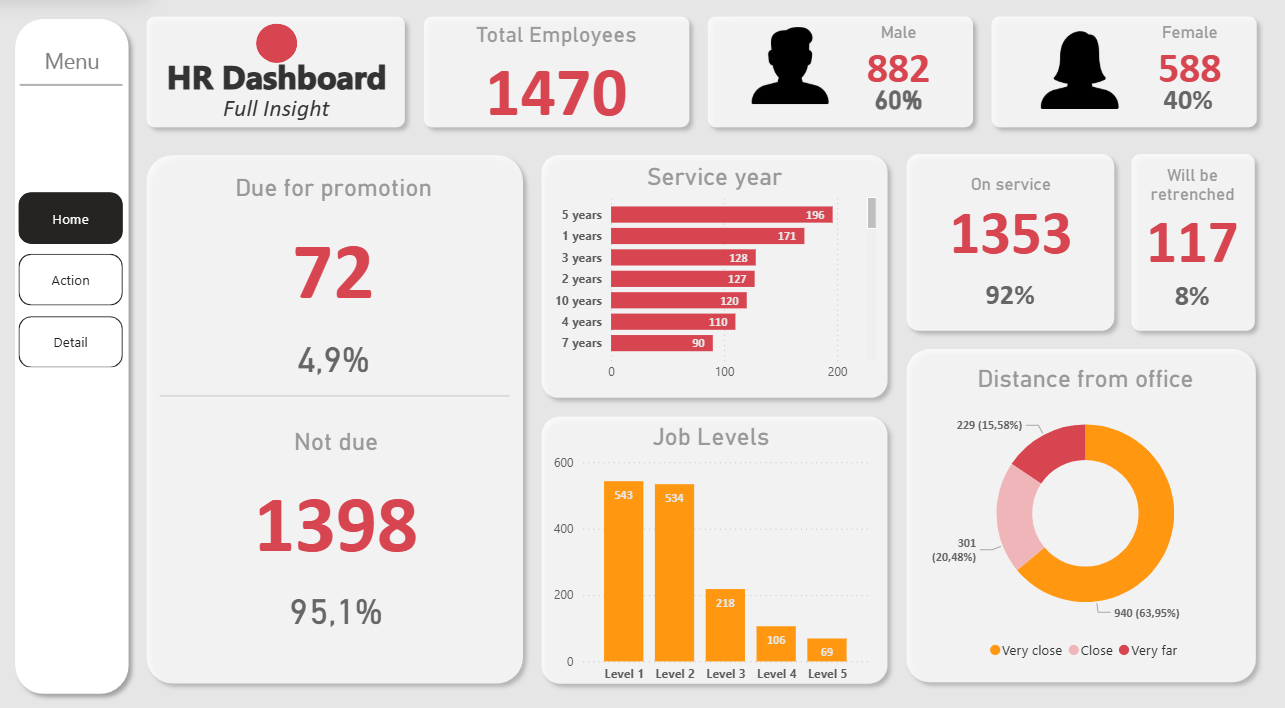

This screenshot's page, from the dashboard's own definition file:
{"tool":"powerbi","page":{"name":"Home","canvas":[1280,720],"ordinal":0},"visuals":[{"type":"shape","box":[9.8,13.5,130.1,684.7],"z":0},{"type":"shape","box":[693.5,11.7,280.1,127.4],"z":1000},{"type":"shape","box":[973.6,11.7,280.1,127.4],"z":2000},{"type":"shape","box":[140.1,11.7,273.3,127.4],"z":3000},{"type":"shape","box":[413.4,11.7,280.1,127.4],"z":4000},{"type":"shape","box":[140.1,147.8,390,539.8],"z":5000},{"type":"shape","box":[530.1,147.8,359.9,257.8],"z":6000},{"type":"shape","box":[530.1,405.6,359.9,282.1],"z":7000},{"type":"shape","box":[889.6,147.2,223.3,192.6],"z":8000},{"type":"shape","box":[1112.9,147.2,139.9,192.6],"z":9000},{"type":"shape","box":[889.6,339.9,363.2,347.2],"z":10000},{"type":"textbox","box":[148.8,52.5,255.8,59.3],"z":11000},{"type":"textbox","box":[193.5,90.6,166,39.8],"z":12000},{"type":"shape","box":[256.8,27.2,40.9,38.9],"z":13000},{"type":"card","title":"Total Employees","fields":{"Values":["All Measures.Total Emp"]},"box":[444.5,26.3,217.9,98.2],"z":14000},{"type":"card","title":"Male","fields":{"Values":["All Measures.Male"]},"box":[837.4,26.3,108.9,65.2],"z":15000},{"type":"card","title":"Male","fields":{"Values":["All Measures.% Male"]},"box":[856.9,84.6,69.1,33.1],"z":16000},{"type":"card","title":"Female","fields":{"Values":["All Measures.Female"]},"box":[1124.4,26.3,108.9,65.2],"z":17000},{"type":"card","title":"Male","fields":{"Values":["All Measures.% Female"]},"box":[1143.8,84.6,69.1,33.1],"z":18000},{"type":"image","box":[740.2,26.3,86.6,85.6],"z":19000},{"type":"image","box":[1027.1,28.2,86.6,89.5],"z":20000},{"type":"card","title":"Due for promotion","fields":{"Values":["All Measures.Due for promotion"]},"box":[148.2,175.6,370.5,150.9],"z":21000},{"type":"card","fields":{"Values":["All Measures.% Due for promotion"]},"box":[148.2,326.6,370.5,57.6],"z":22000},{"type":"card","title":"Not due","fields":{"Values":["All Measures.Not due"]},"box":[150.5,426.1,370.5,150.9],"z":23000},{"type":"card","fields":{"Values":["All Measures.% Not due"]},"box":[150.5,577,370.5,57.6],"z":24000},{"type":"shape","box":[161.9,384.2,345.8,22],"z":25000},{"type":"barChart","title":"Service year","fields":{"Y":["All Measures.Total Emp"],"Category":["HR Analytics Data.Service year"]},"box":[546.1,164.7,328,225],"z":26000},{"type":"columnChart","title":"Job Levels","fields":{"Category":["HR Analytics Data.Job Level"],"Y":["All Measures.Total Emp"]},"box":[546.1,421.3,321.1,266.2],"z":27000},{"type":"card","title":"On service","fields":{"Values":["All Measures.On service"]},"box":[900.6,175.5,204.9,85.9],"z":28000},{"type":"card","title":"Male","fields":{"Values":["All Measures.% On service"]},"box":[899.4,277.3,206.1,33.1],"z":29000},{"type":"card","title":"Will be retrenched","fields":{"Values":["All Measures.Will be retreanched"]},"box":[1115.3,166.9,133.7,101.8],"z":30000},{"type":"card","title":"Male","fields":{"Values":["All Measures.% will be retreanched"]},"box":[1115.3,278.5,133.7,33.1],"z":31000},{"type":"donutChart","title":"Distance from office","fields":{"Category":["HR Analytics Data.Distance status"],"Y":["All Measures.Total Emp"]},"box":[900.6,364.4,352.1,300.6],"z":32000},{"type":"textbox","box":[9.6,43.9,130.4,49.4],"z":32002},{"type":"shape","box":[23.3,74.1,101.5,27.4],"z":32003},{"type":"pageNavigator","box":[22.1,193.9,103.1,174.2],"z":32004}]}

Visuals, with their boxes in screenshot pixels (x1, y1, x2, y2), scaled from the page's 1280x720 canvas onto the 1285x708 screenshot:
shape: 10:13:140:687
shape: 696:12:977:137
shape: 977:12:1259:137
shape: 141:12:415:137
shape: 415:12:696:137
shape: 141:145:532:676
shape: 532:145:893:399
shape: 532:399:893:676
shape: 893:145:1117:334
shape: 1117:145:1258:334
shape: 893:334:1258:676
textbox: 149:52:406:110
textbox: 194:89:361:128
shape: 258:27:299:65
"Total Employees" card: 446:26:665:122
"Male" card: 841:26:950:90
"Male" card: 860:83:930:116
"Female" card: 1129:26:1238:90
"Male" card: 1148:83:1218:116
image: 743:26:830:110
image: 1031:28:1118:116
"Due for promotion" card: 149:173:521:321
card - All Measures.% Due for promotion: 149:321:521:378
"Not due" card: 151:419:523:567
card - All Measures.% Not due: 151:567:523:624
shape: 163:378:510:399
"Service year" barChart: 548:162:878:383
"Job Levels" columnChart: 548:414:871:676
"On service" card: 904:173:1110:257
"Male" card: 903:273:1110:305
"Will be retrenched" card: 1120:164:1254:264
"Male" card: 1120:274:1254:306
"Distance from office" donutChart: 904:358:1258:654
textbox: 10:43:141:92
shape: 23:73:125:100
pageNavigator: 22:191:126:362
